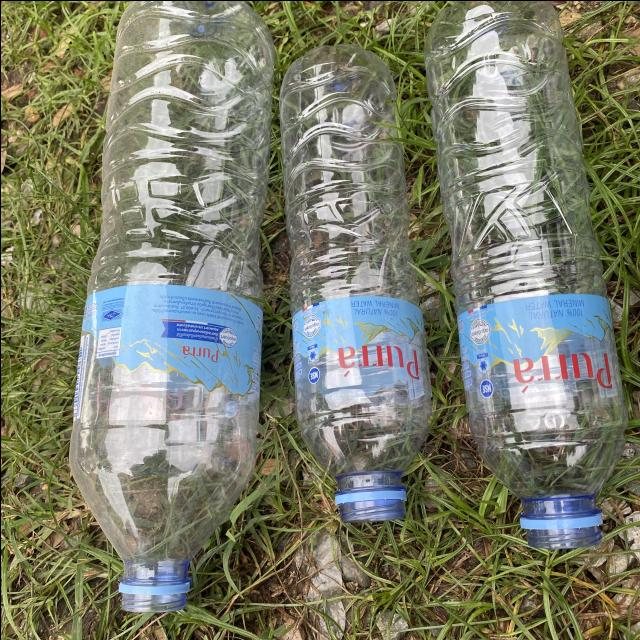plastik: (69, 0, 272, 611), (424, 0, 626, 548), (279, 44, 431, 521)
